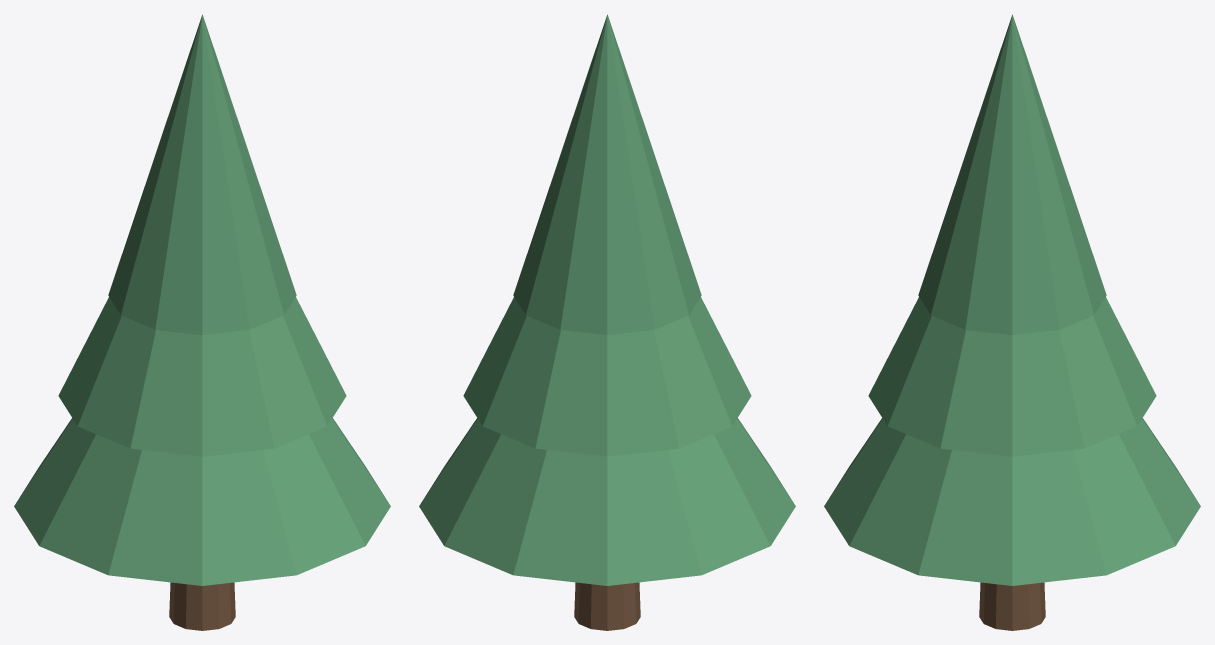
The picture shows the model from 3 angles, left to right: view 1: azimuth 30°, elevation 25°; view 2: azimuth 150°, elevation 25°; view 3: azimuth 270°, elevation 25°; orthographic projection.
Bounding box in the file's own units: 3.4 × 6 × 3.4.
